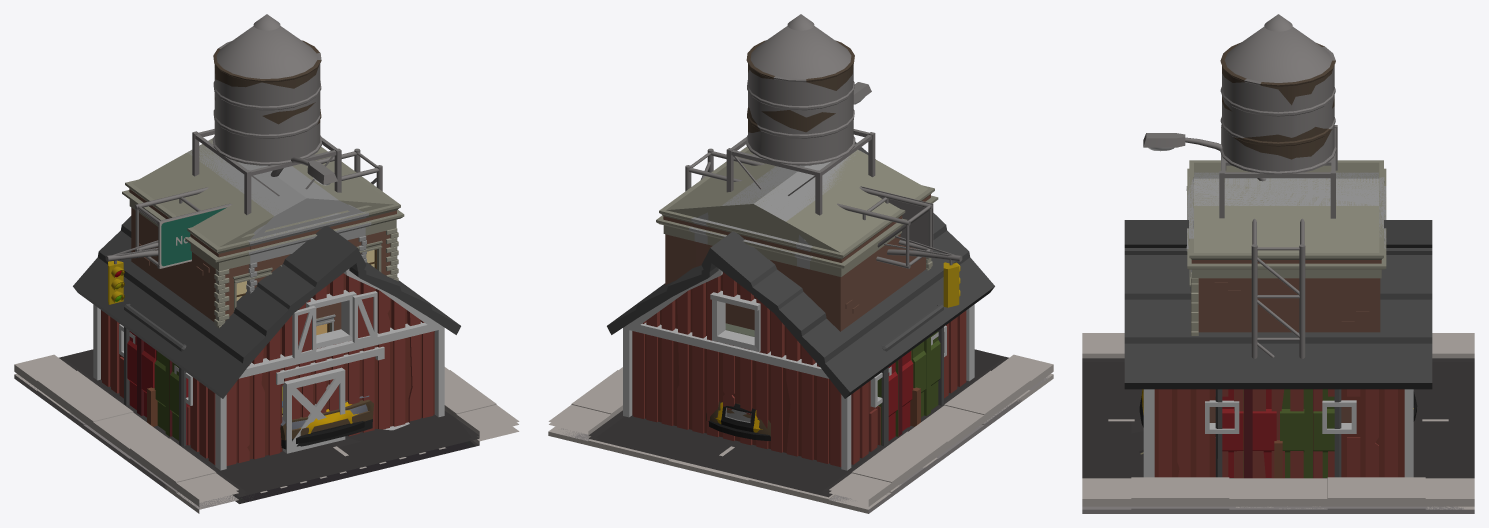
Rendered from env.glb.
3 views of the same model, side by side, from view 1: azimuth 30°, elevation 25°; view 2: azimuth 150°, elevation 25°; view 3: azimuth 270°, elevation 25° (orthographic). The views are drawn at different scales.
Visible parts, largest first — view 1: Small_Barn, Street_Straight_Crack1, Big_Building, WaterTower, Town_House, TownSign, Street_Straight, Container_Red, Container_Green, Street_Straight_Crack2, Broken_Car, TrafficLight_2 (+3 smaller); view 2: Small_Barn, Big_Building, Street_Straight_Crack1, WaterTower, Town_House, TownSign, Container_Green, Street_Turn, Container_Red, Street_Straight_Crack2, TrafficLight_2, Street_Straight (+1 smaller); view 3: Small_Barn, Big_Building, Street_Straight_Crack1, WaterTower, Town_House, Container_Green, Container_Red, Street_Straight, TownSign, Street_Straight_Crack2, StreetLights.
Part boxes in pixels (x1,y1,x2,y2): Small_Barn: (73,216,460,470); Street_Straight_Crack1: (14,349,519,502); Big_Building: (122,138,404,332); WaterTower: (192,14,341,214); Town_House: (187,139,371,332); TownSign: (134,148,382,268); Street_Straight: (14,374,475,509); Container_Red: (124,303,189,446); Container_Green: (129,304,185,445); Street_Straight_Crack2: (14,368,518,506); Broken_Car: (280,395,373,449); TrafficLight_2: (105,240,158,304); Small_Barn: (607,142,994,470); Big_Building: (656,146,938,331); Street_Straight_Crack1: (548,349,1053,502); WaterTower: (726,14,875,215); Town_House: (689,150,863,297); TownSign: (685,148,933,268); Container_Green: (877,303,943,446); Street_Turn: (548,374,1053,513); Container_Red: (885,304,939,445); Street_Straight_Crack2: (549,368,1053,506); TrafficLight_2: (884,235,962,307); Street_Straight: (561,376,1049,513); Small_Barn: (1124,220,1432,478); Big_Building: (1187,160,1386,422); Street_Straight_Crack1: (1082,333,1474,502); WaterTower: (1219,14,1337,218); Town_House: (1186,172,1386,290); Container_Green: (1215,389,1338,478); Container_Red: (1217,389,1341,478); Street_Straight: (1082,506,1474,513); TownSign: (1251,218,1305,358); Street_Straight_Crack2: (1082,357,1474,506); StreetLights: (1143,133,1266,181).
Size of the model in its own units: 8 by 9.38 by 8.
